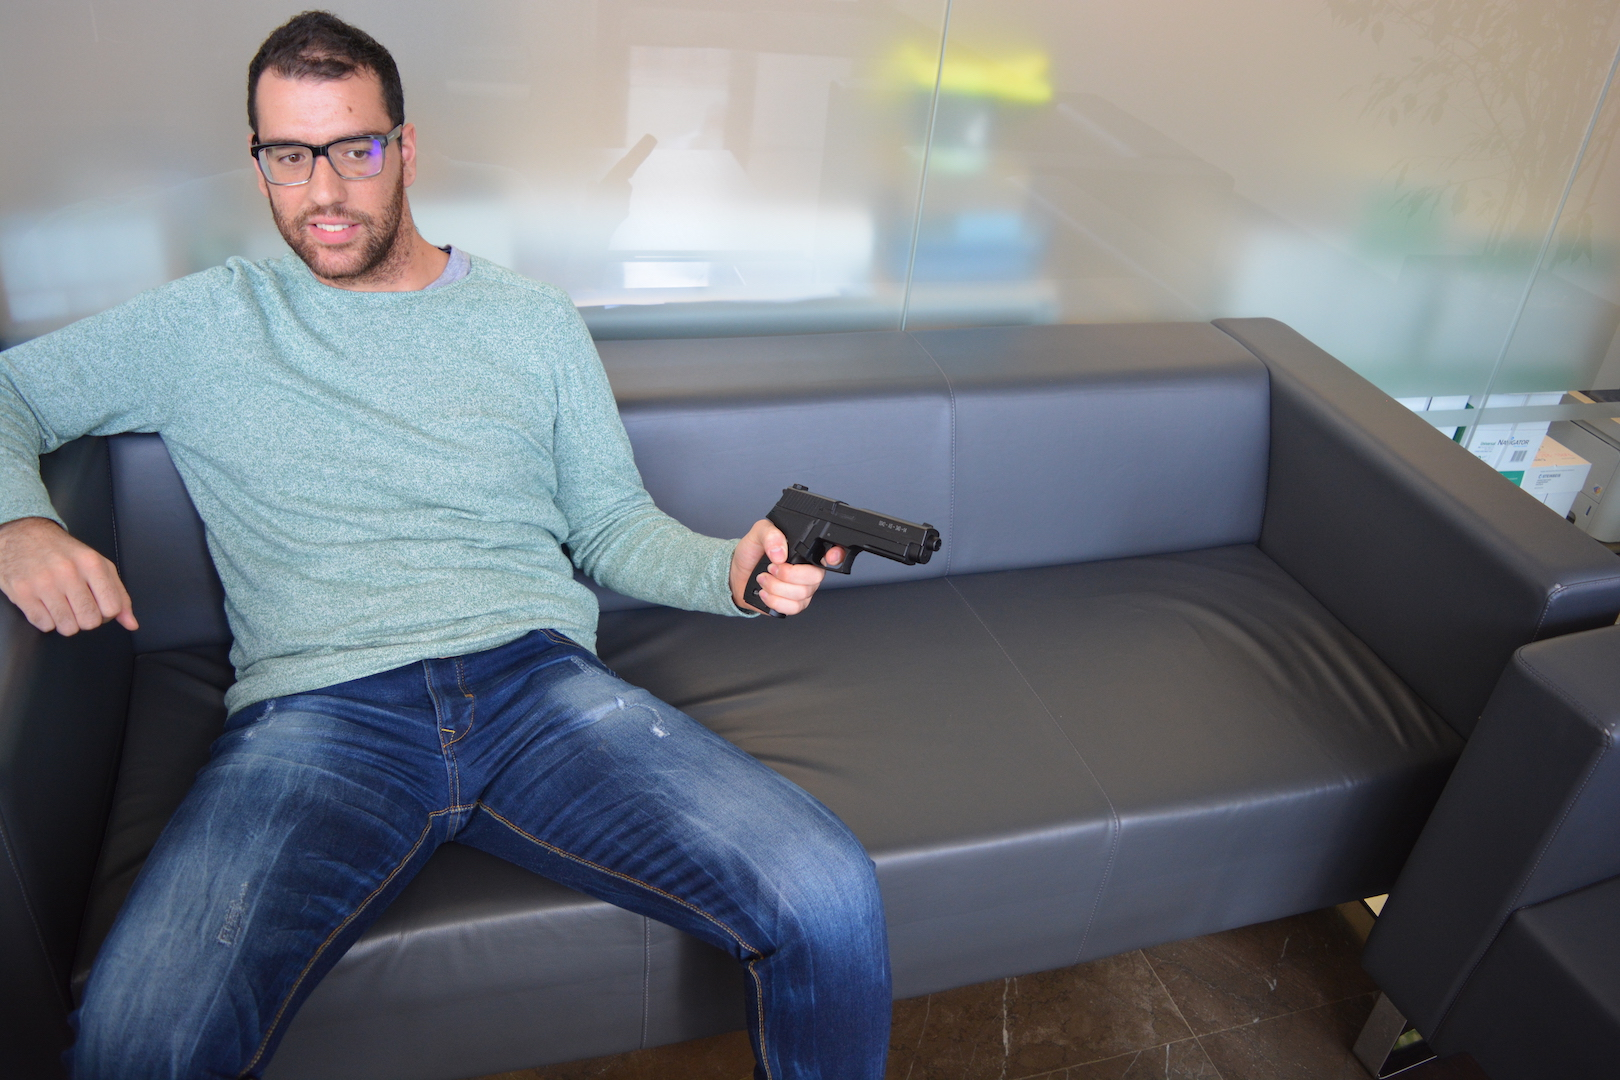pistol: (742, 483, 943, 620)
